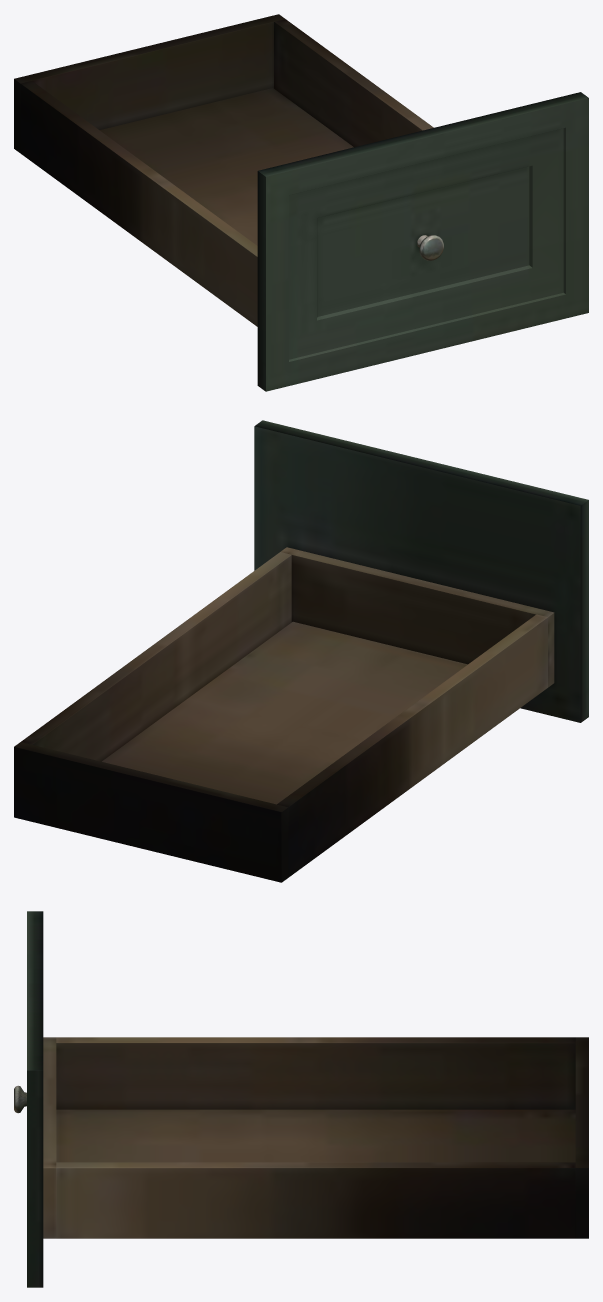
File: Drawer_Bottom_Right.gltf
3 views of the same model, one above another, from view 1: azimuth 30°, elevation 25°; view 2: azimuth 150°, elevation 25°; view 3: azimuth 270°, elevation 25° (orthographic).
Parts seen in each view (by area): view 1: Drawer_Bottom_Right; view 2: Drawer_Bottom_Right; view 3: Drawer_Bottom_Right.
Boxes of the visible parts, x1=… form: Drawer_Bottom_Right: x1=14, y1=14, x2=588, y2=391; Drawer_Bottom_Right: x1=14, y1=420, x2=588, y2=882; Drawer_Bottom_Right: x1=14, y1=911, x2=588, y2=1287.
Bounding box in the file's own units: 443 × 282 × 675.
3 materials, 3 textured.
